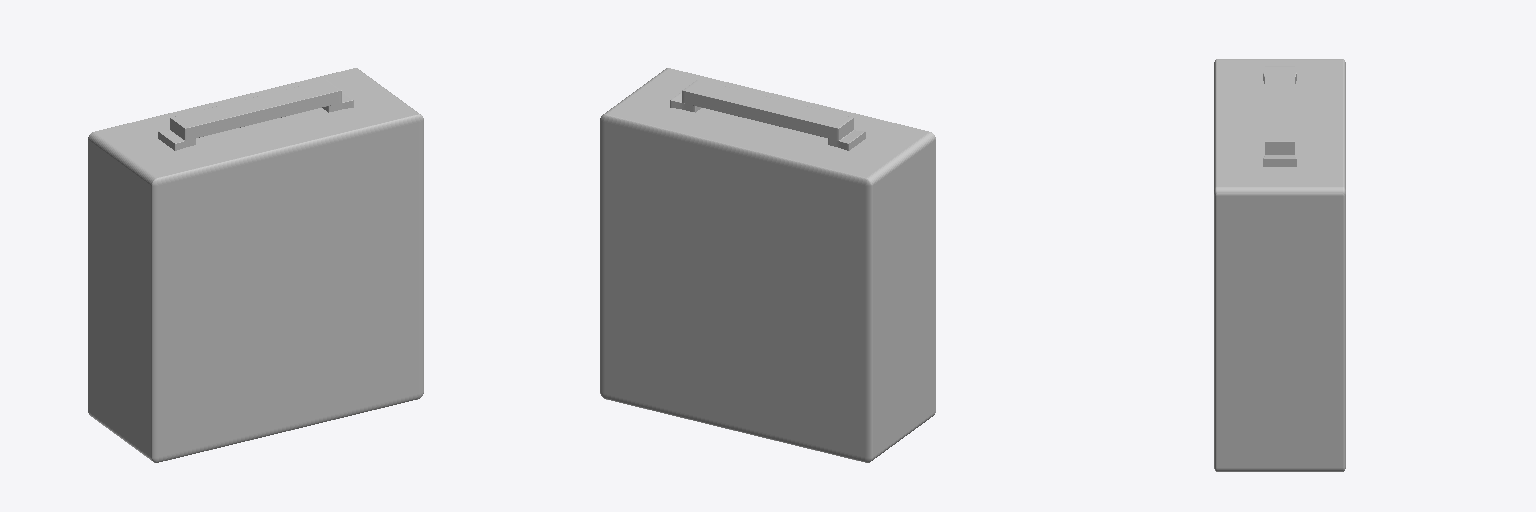
Rendered from Medkit.obj.
3 views of the same model, side by side, from view 1: azimuth 30°, elevation 25°; view 2: azimuth 150°, elevation 25°; view 3: azimuth 270°, elevation 25° (orthographic).
Parts seen in each view (by area): view 1: Medkit.001; view 2: Medkit.001; view 3: Medkit.001.
Boxes of the visible parts, x1,y1,x2,y2 form: Medkit.001: [88, 68, 423, 462]; Medkit.001: [600, 68, 935, 462]; Medkit.001: [1214, 59, 1345, 471].
Bounding box in the file's own units: 0.0965 × 0.103 × 0.0406.